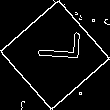L_W: (29, 38, 81, 72)
